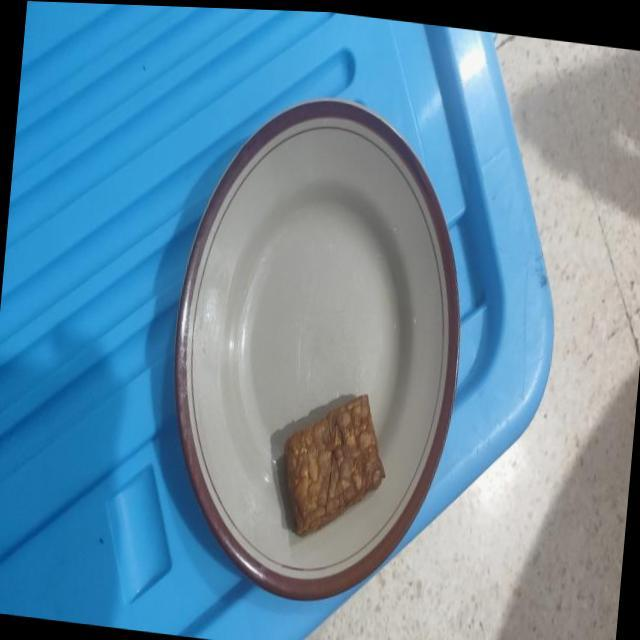tempe_goreng: (284, 394, 384, 536)
